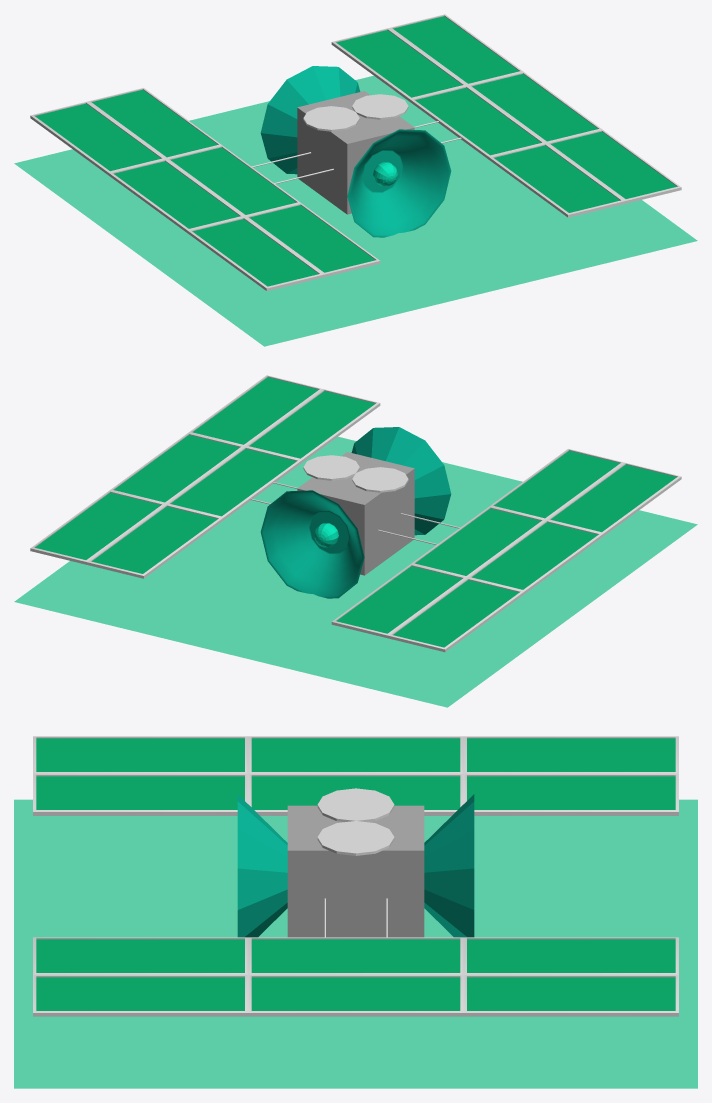
Rendered from satellite2_green.fbx.
3 views of the same model, one above another, from view 1: azimuth 30°, elevation 25°; view 2: azimuth 150°, elevation 25°; view 3: azimuth 270°, elevation 25° (orthographic). The views are drawn at different scales.
Visible parts, largest first — view 1: pCube10 (×2), ght_ght1, pCone1 (×2), pCube9, pCylinder13, pCylinder14; view 2: pCube10 (×2), ght_ght1, pCone1 (×2), pCube9, pCylinder13, pCylinder14; view 3: ght_ght1, pCube10 (×2), pCube9, pCone1 (×2), pCylinder14, pCylinder13.
Boxes of the visible parts, left/top/right/bottom form: pCube10 (×2): left=30, top=14, right=681, bottom=291; ght_ght1: left=14, top=75, right=697, bottom=346; pCone1 (×2): left=260, top=66, right=451, bottom=237; pCube9: left=297, top=91, right=414, bottom=214; pCylinder13: left=303, top=106, right=359, bottom=131; pCylinder14: left=352, top=94, right=408, bottom=119; pCube10 (×2): left=30, top=375, right=681, bottom=652; ght_ght1: left=14, top=436, right=697, bottom=707; pCone1 (×2): left=260, top=427, right=451, bottom=598; pCube9: left=297, top=452, right=414, bottom=575; pCylinder13: left=352, top=467, right=408, bottom=492; pCylinder14: left=303, top=455, right=359, bottom=480; ght_ght1: left=14, top=799, right=697, bottom=1088; pCube10 (×2): left=33, top=736, right=678, bottom=1016; pCube9: left=287, top=805, right=424, bottom=937; pCone1 (×2): left=237, top=794, right=474, bottom=937; pCylinder14: left=317, top=821, right=394, bottom=855; pCylinder13: left=317, top=788, right=394, bottom=821.
Bounding box in the file's own units: 8 × 1.92 × 8.
